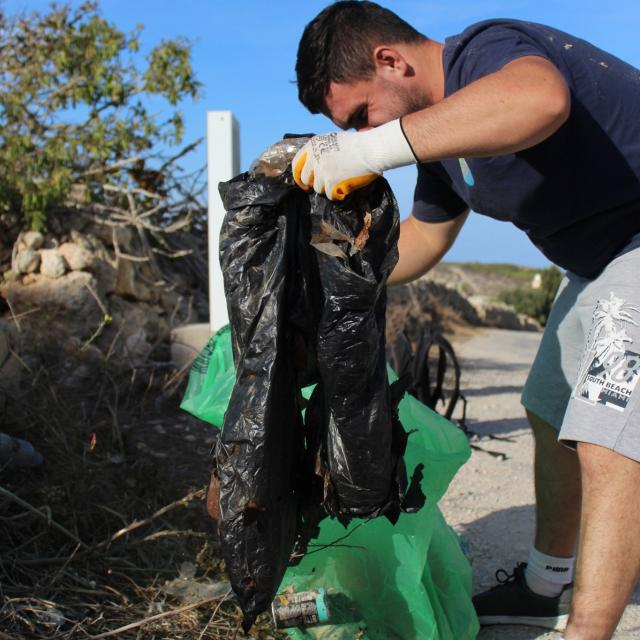Can: (271, 588, 332, 630)
Other plastic: (160, 562, 233, 603)
Plastic bag - wrapper: (202, 165, 426, 627), (280, 364, 481, 640), (186, 329, 233, 424)
